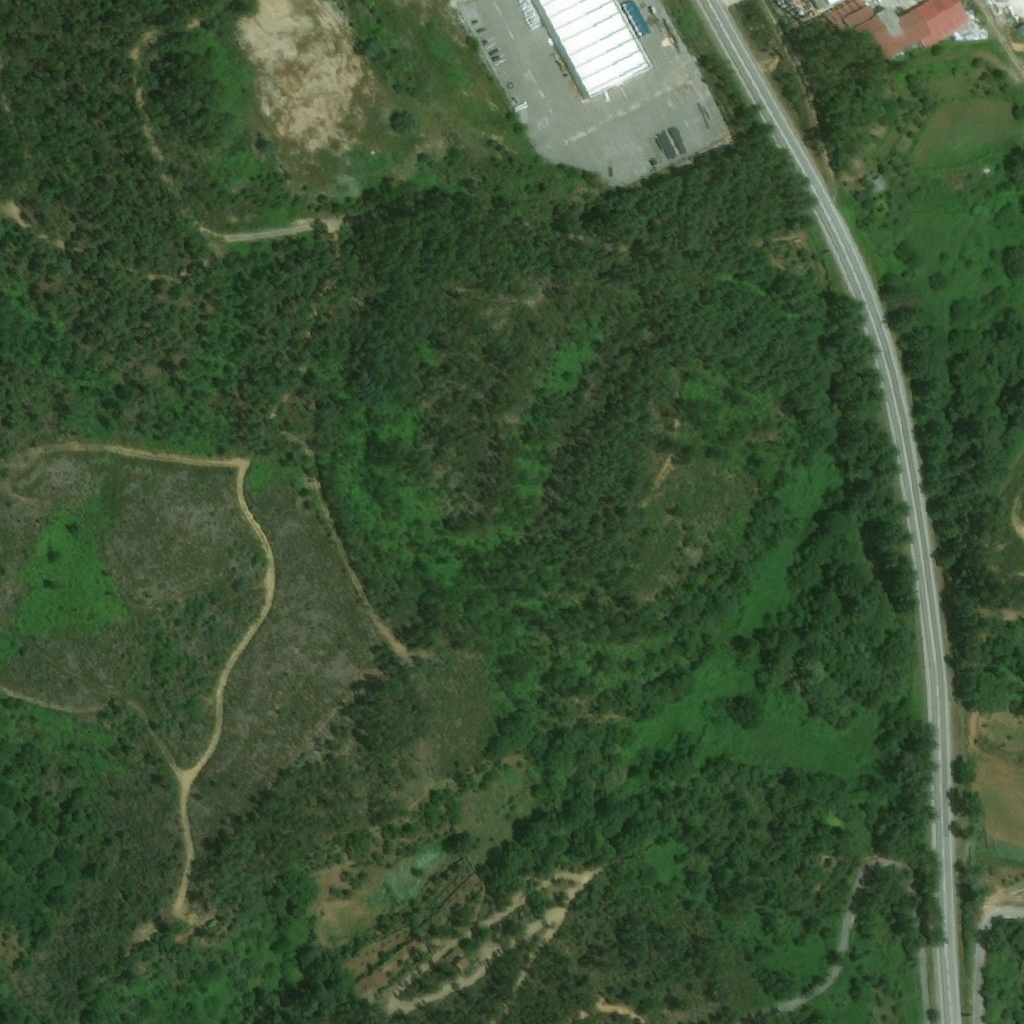0 no-damage: (530, 0, 656, 99), (824, 0, 935, 62), (929, 0, 980, 41)
4 un-classified: (804, 0, 842, 10)
